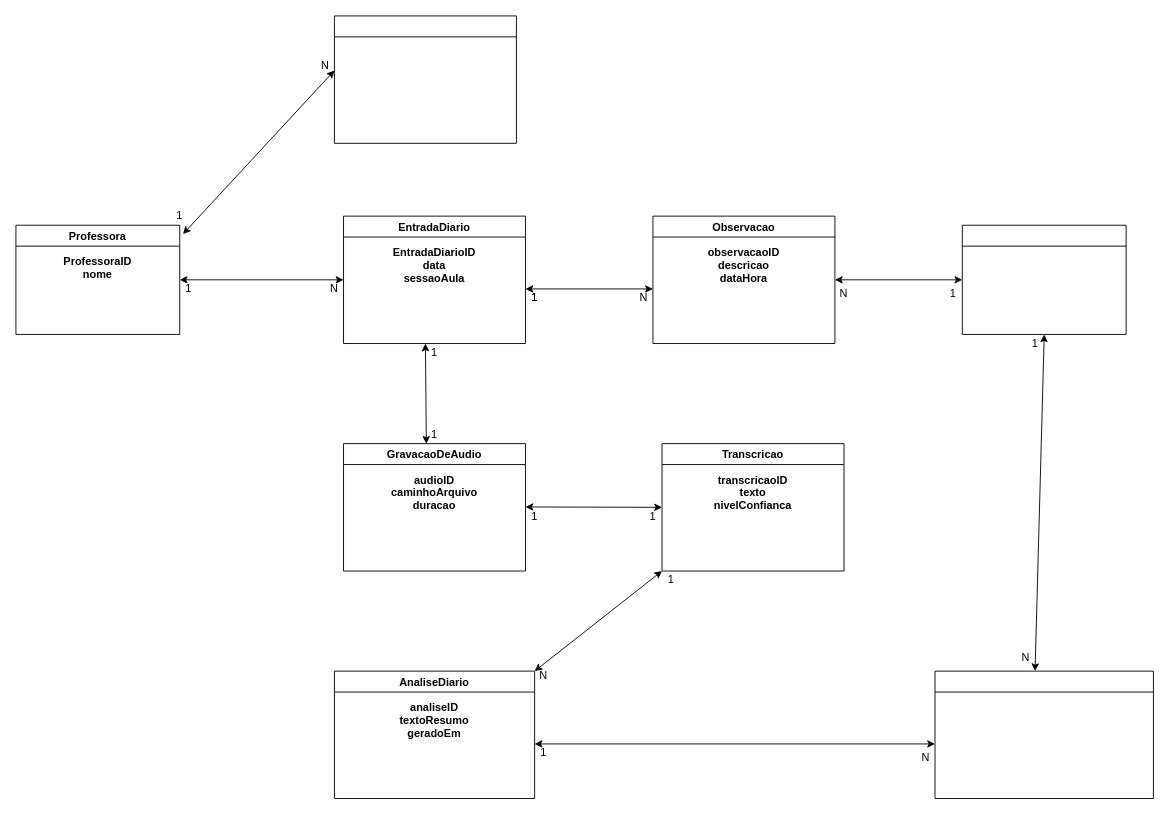
Image size: 1169x814. Some labels were removed from this diagram. The shapes that lost their labels are listed below. From the top down, each one's box as (x1, y1, x2, y2) in pixels, then its label:
(334, 15, 516, 143): Aulas AulasID data horaInicio horaFim sala
(961, 224, 1126, 334): Estudante estudanteID nome dataAniversario
(934, 670, 1153, 799): AnaliseComportamentoAluno comportamentoID tendencia recomendacao
